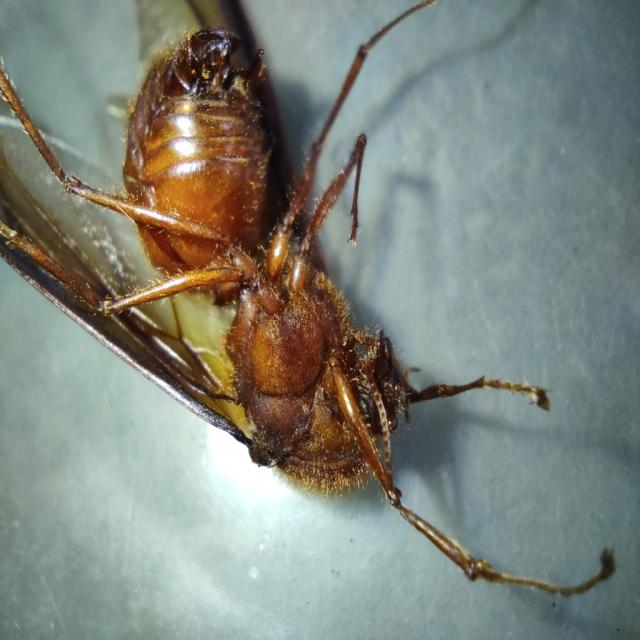Dead-Male-Alate: (0, 0, 617, 600)
